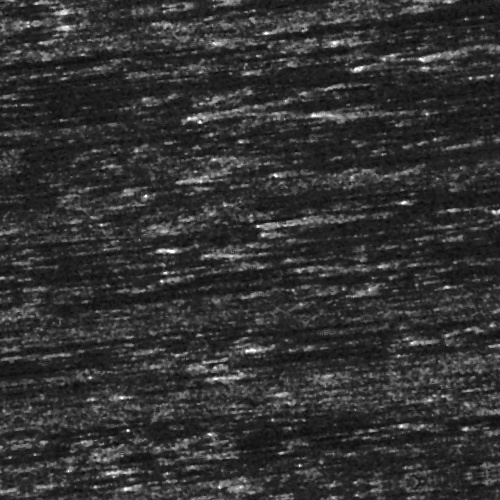object: (254, 220, 389, 229), (210, 338, 293, 351), (177, 104, 282, 113), (406, 70, 500, 79), (183, 245, 266, 254), (232, 32, 325, 39), (350, 119, 413, 124), (176, 366, 239, 371), (214, 166, 277, 171), (469, 232, 500, 237), (486, 455, 500, 464), (0, 281, 22, 284)
shadow: (0, 74, 349, 85), (252, 338, 484, 351), (321, 220, 500, 229), (225, 245, 381, 254), (0, 252, 82, 263), (2, 281, 298, 284), (245, 166, 404, 171), (230, 104, 307, 113), (279, 32, 357, 39), (382, 119, 462, 124), (208, 366, 284, 371), (474, 70, 500, 79)
